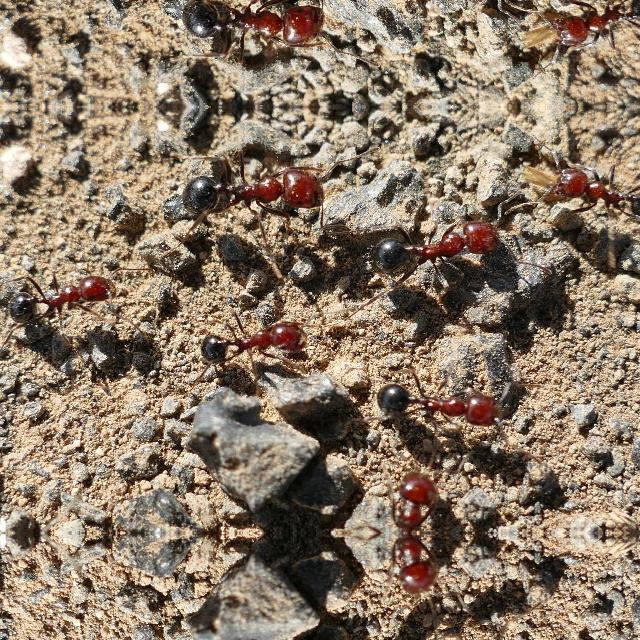Messor: (166, 166, 348, 227), (2, 256, 116, 336), (166, 0, 347, 46), (379, 366, 509, 430), (366, 218, 502, 278), (551, 150, 639, 234), (195, 312, 315, 372), (358, 456, 440, 532), (358, 533, 440, 609), (551, 0, 639, 62)
